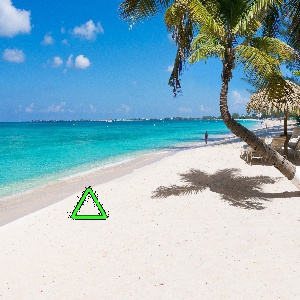triangle: (68, 184, 110, 223)
